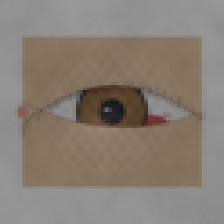hemorrhage_spot: (116, 101, 178, 151)
